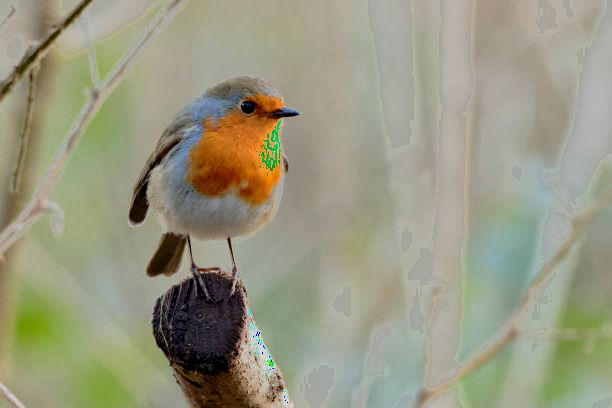Bird: (124, 66, 301, 301)
